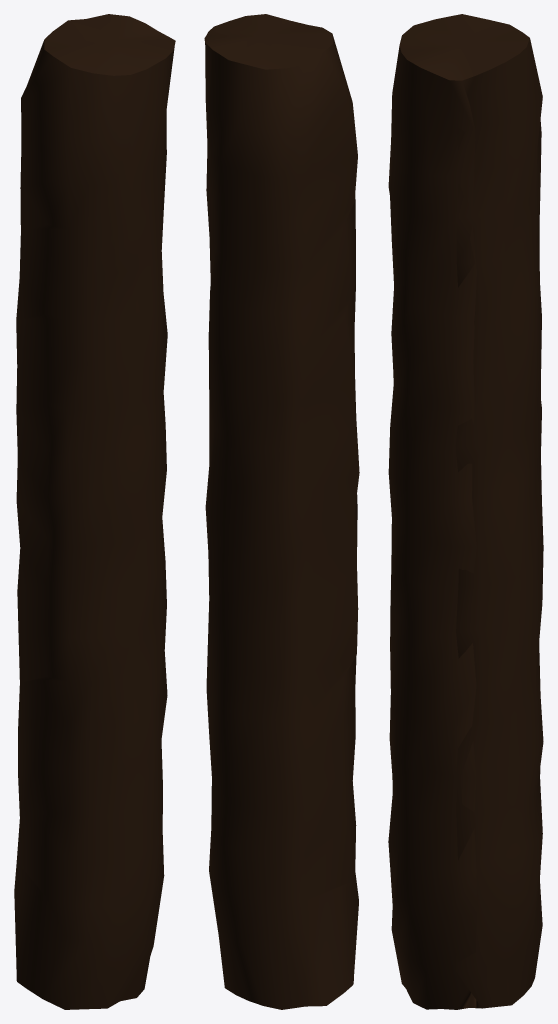
File: column.fbx
3 renders of one model, left to right at view 1: azimuth 30°, elevation 25°; view 2: azimuth 150°, elevation 25°; view 3: azimuth 270°, elevation 25°, orthographic. The views are drawn at different scales.
Parts seen in each view (by area): view 1: pCylinder1; view 2: pCylinder1; view 3: pCylinder1.
Part boxes in pixels (box(x1,y1,x2,y2)): pCylinder1: box(14, 14, 175, 1009); pCylinder1: box(204, 14, 359, 1009); pCylinder1: box(388, 14, 543, 1009).
Size of the model in its own units: 3.32 by 21.47 by 3.13.
